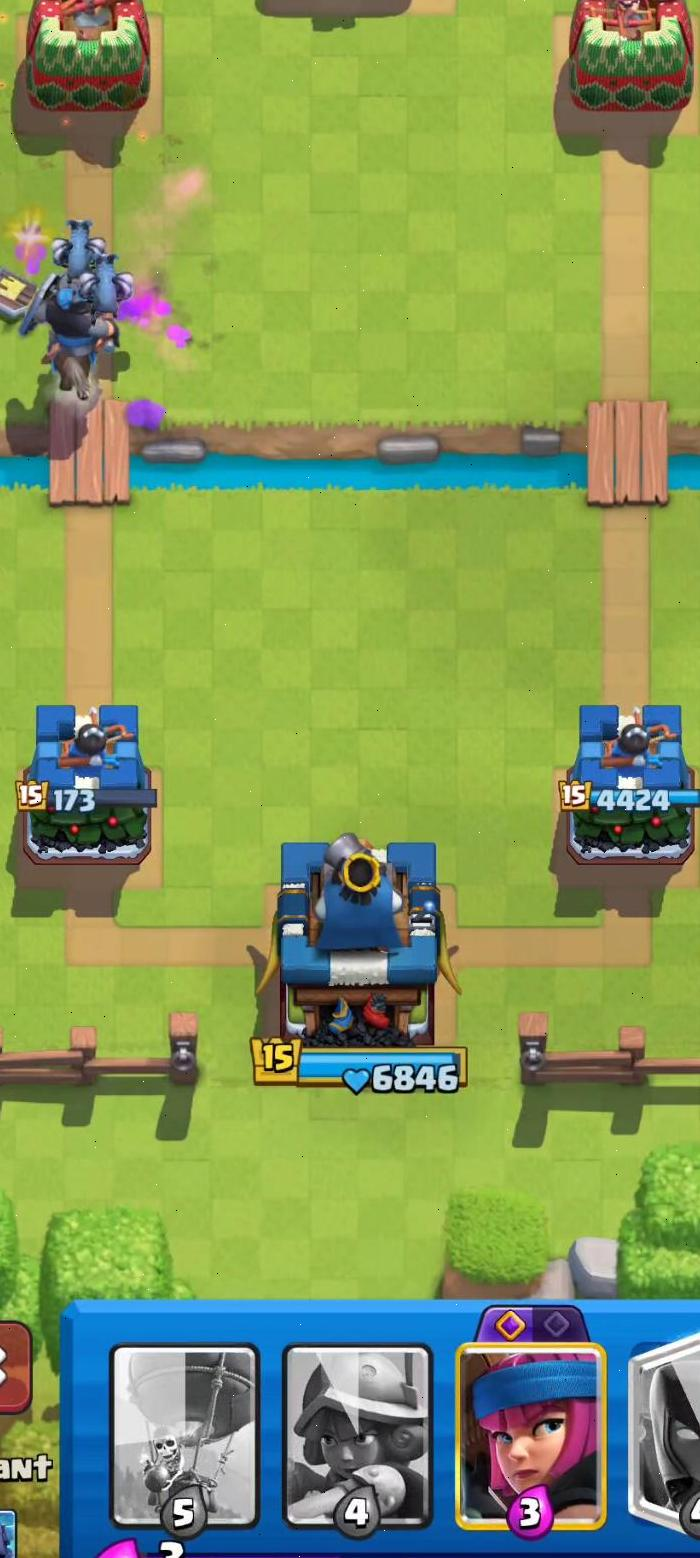player_dark_prince: (23, 300, 128, 412)
player_minions: (73, 249, 140, 312), (45, 214, 107, 273)
